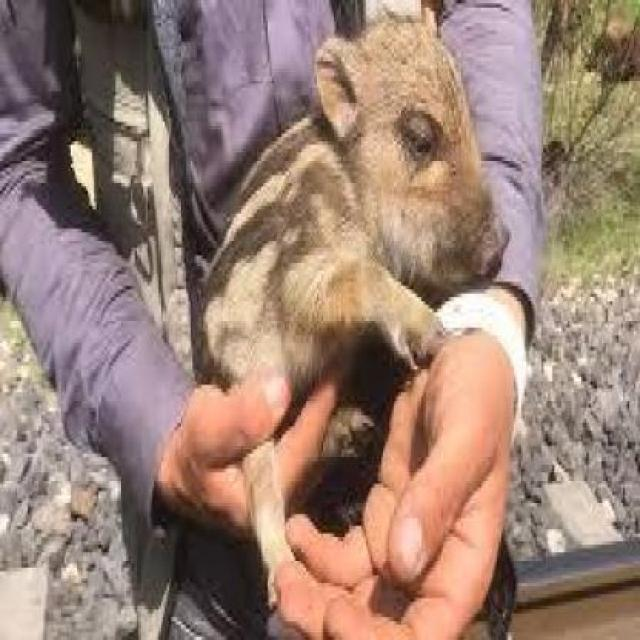wildboar: (194, 8, 512, 608)
